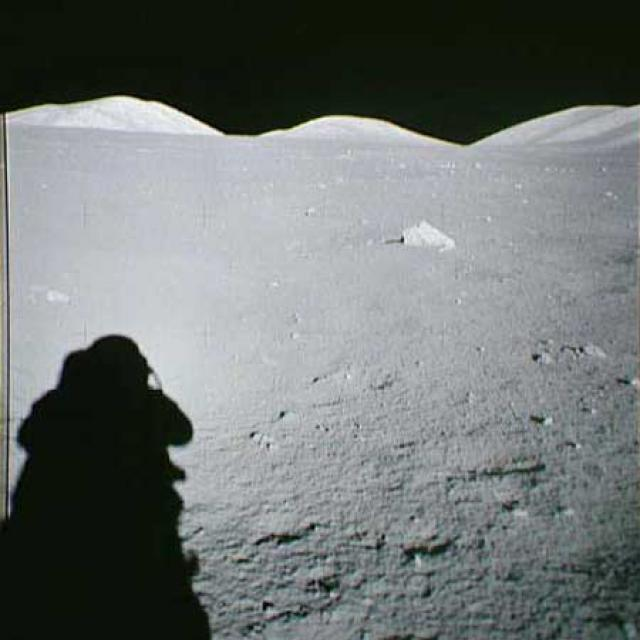rock: (399, 219, 456, 257)
